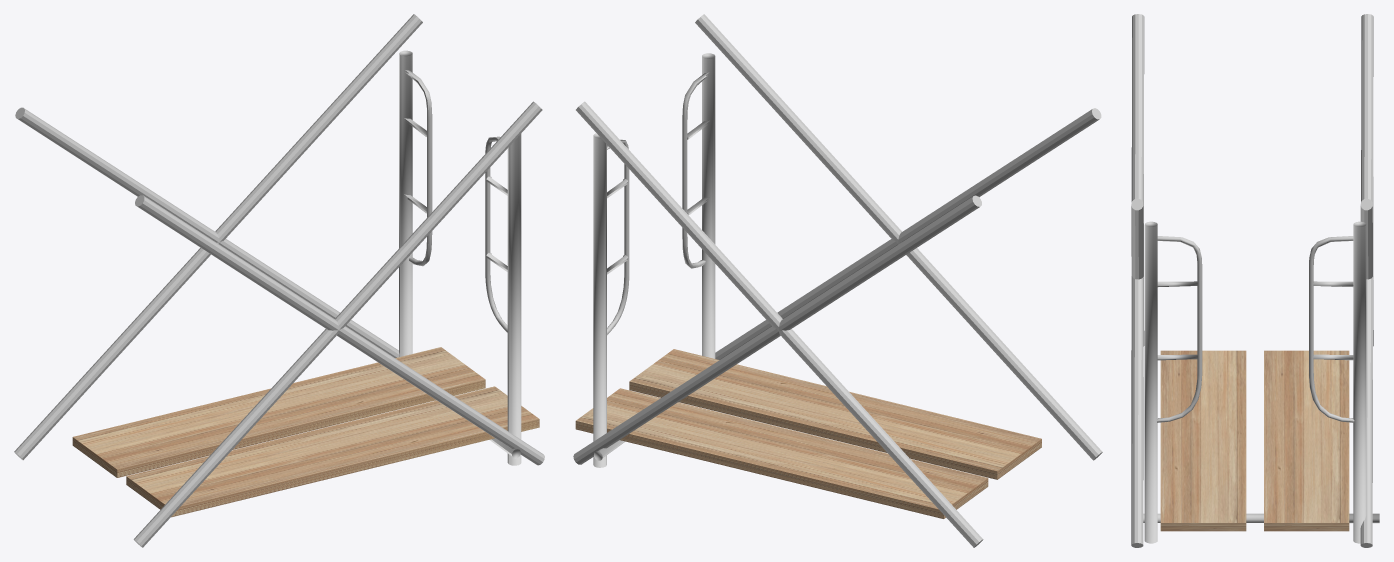
The model's file is archi_footing_template.glb.
3 renders of one model, left to right at view 1: azimuth 30°, elevation 25°; view 2: azimuth 150°, elevation 25°; view 3: azimuth 270°, elevation 25°, orthographic. The views are drawn at different scales.
Parts seen in each view (by area): view 1: Cylinder.002; view 2: Cylinder.002; view 3: Cylinder.002.
Part boxes in pixels (x1,y1,x2,y2): Cylinder.002: (14, 14, 544, 547); Cylinder.002: (573, 14, 1102, 547); Cylinder.002: (1131, 14, 1379, 547).
Size of the model in its own units: 3.53 by 2.95 by 1.9.
2 materials, 1 textured.
